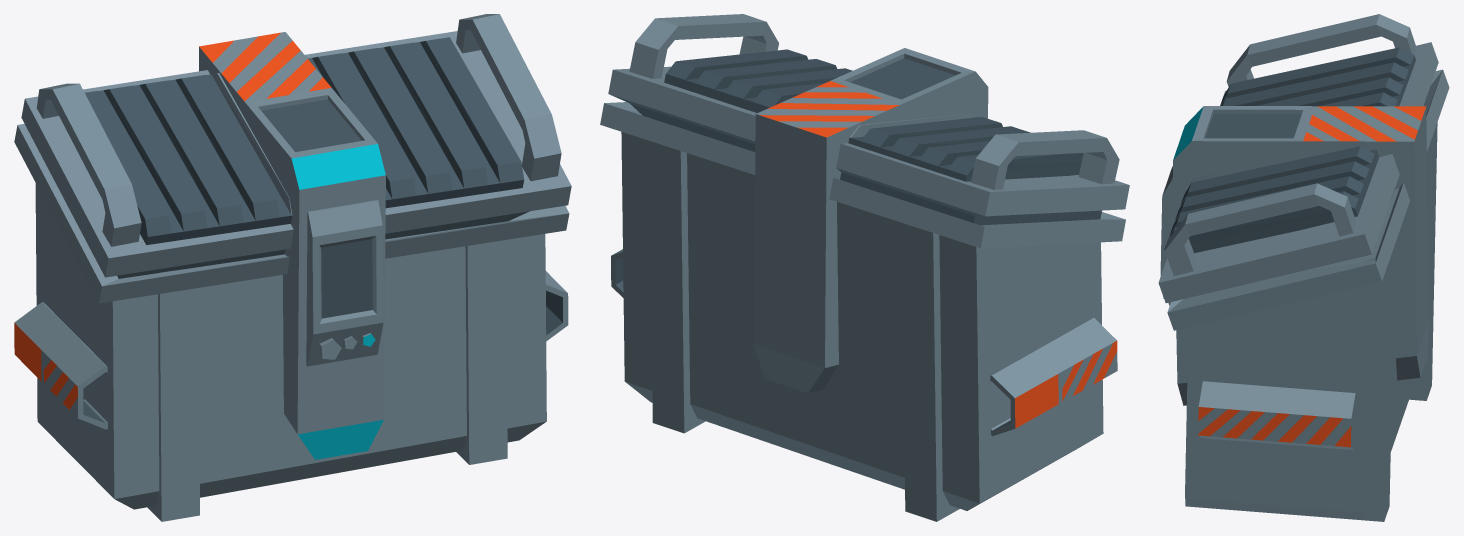
Rendered from terminal.glb.
The picture shows the model from 3 angles, left to right: view 1: azimuth 30°, elevation 25°; view 2: azimuth 150°, elevation 25°; view 3: azimuth 270°, elevation 25°; orthographic projection. The views are drawn at different scales.
Parts seen in each view (by area): view 1: terminal; view 2: terminal; view 3: terminal.
Boxes of the visible parts, x1=… form: terminal: x1=14, y1=14, x2=571, y2=521; terminal: x1=600, y1=14, x2=1129, y2=521; terminal: x1=1158, y1=14, x2=1449, y2=521.
Bounding box in the file's own units: 1.85 × 1.44 × 1.09.
